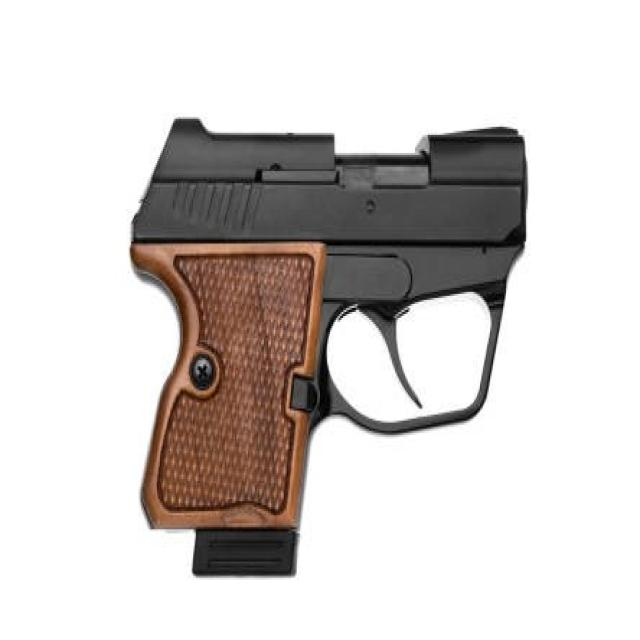pistol: (126, 111, 536, 593)
